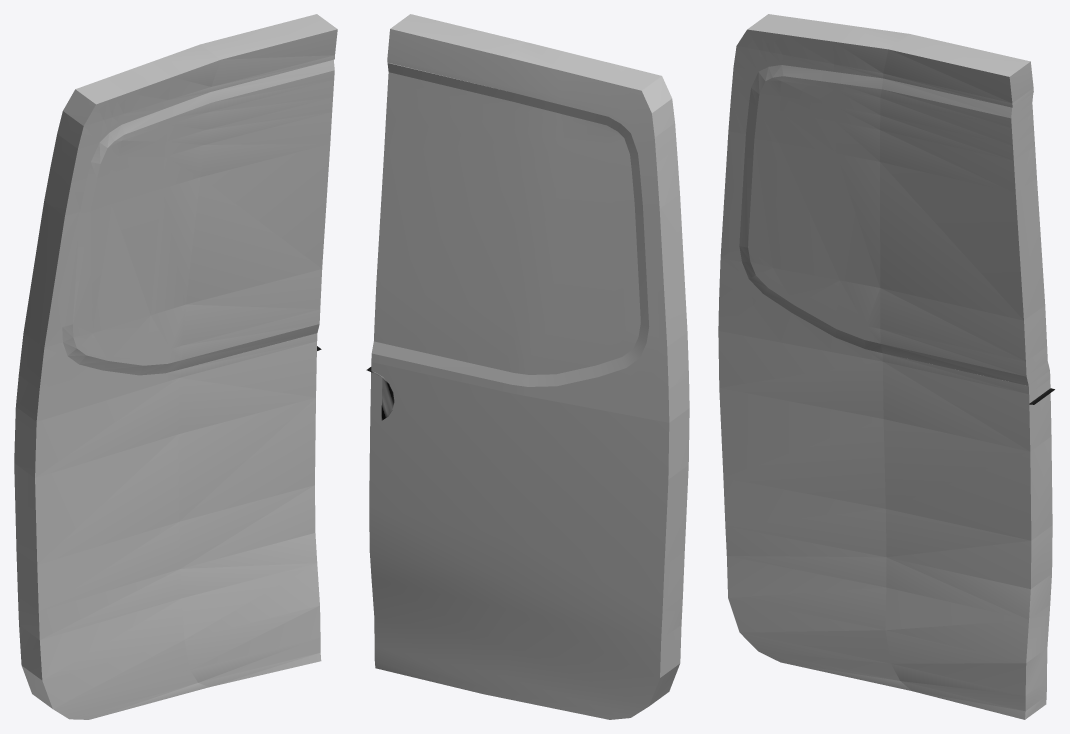
The model's file is vanBackdoorR.fbx.
3 views of the same model, side by side, from view 1: azimuth 30°, elevation 25°; view 2: azimuth 150°, elevation 25°; view 3: azimuth 330°, elevation 25° (orthographic). The views are drawn at different scales.
Visible parts, largest first — view 1: BackDoorR; view 2: BackDoorR; view 3: BackDoorR.
Boxes of the visible parts, x1,y1,x2,y2 form: BackDoorR: (14, 14, 337, 719); BackDoorR: (366, 14, 689, 719); BackDoorR: (718, 14, 1054, 719).
Bounding box in the file's own units: 52.01 × 107 × 15.42.
